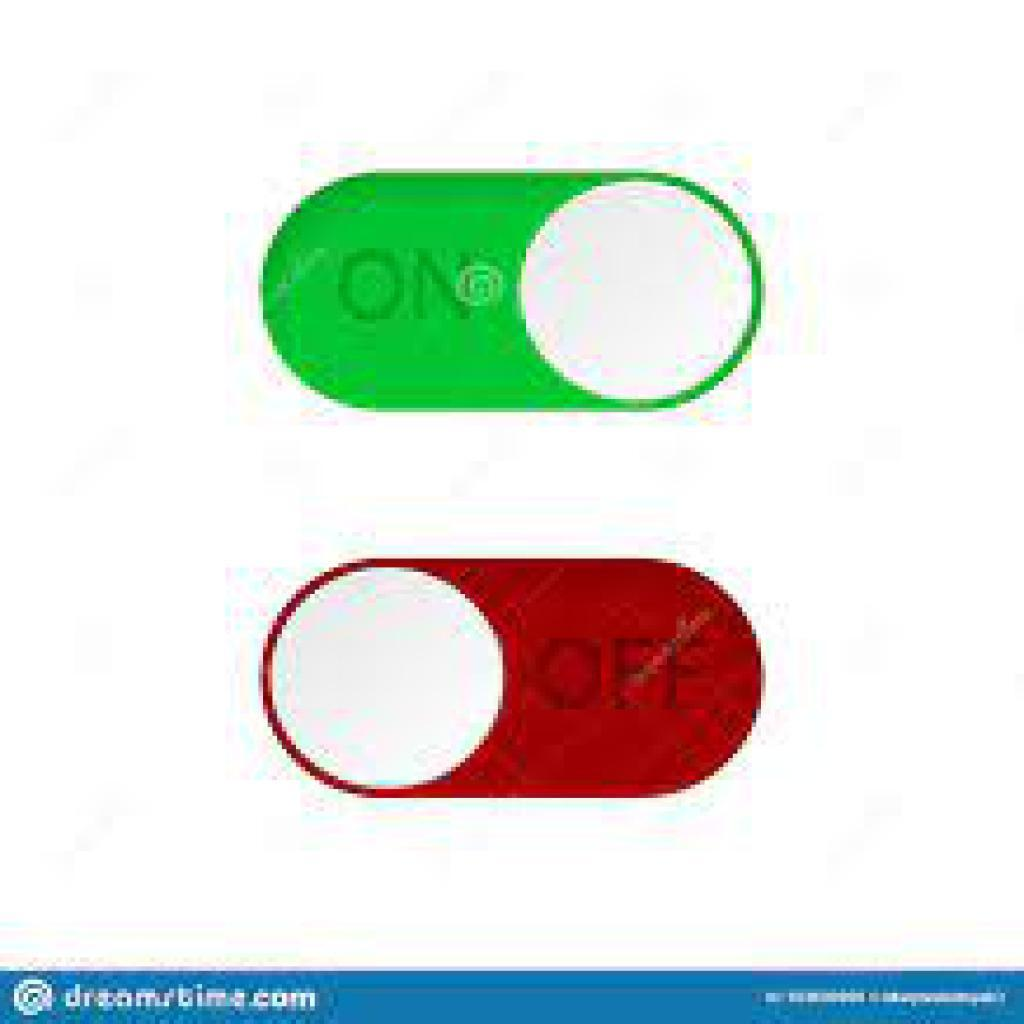switch: (261, 558, 760, 800), (262, 171, 759, 411)
